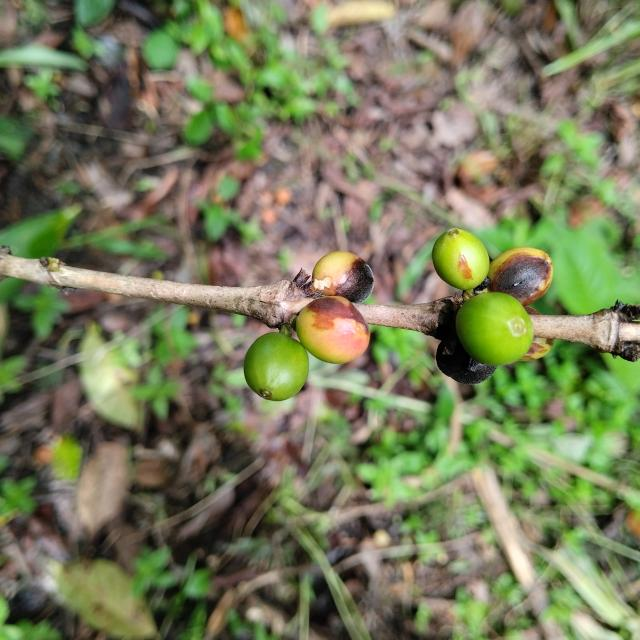green: (456, 292, 534, 366), (244, 332, 309, 402), (432, 228, 491, 291)
red: (296, 296, 370, 364), (489, 247, 554, 306), (436, 333, 497, 385), (312, 251, 374, 302), (521, 338, 555, 361), (526, 306, 541, 314), (526, 307, 541, 314)
